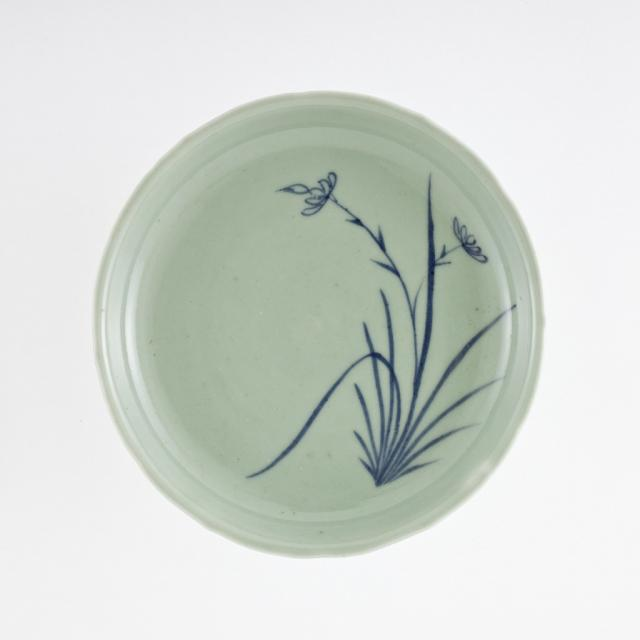non-organic waste: (89, 83, 543, 562)
